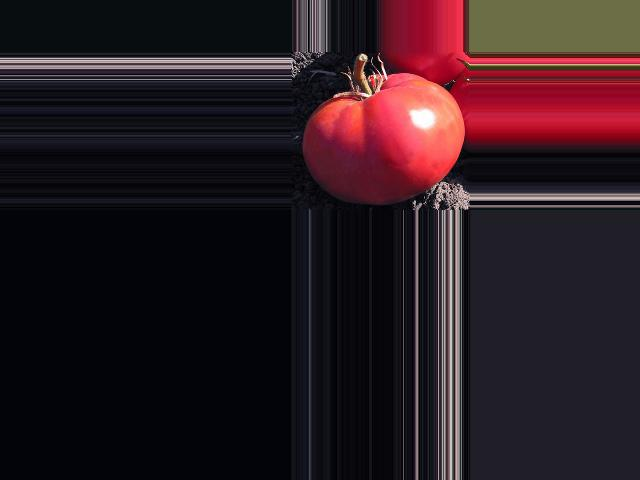tomato: (302, 74, 464, 205)
